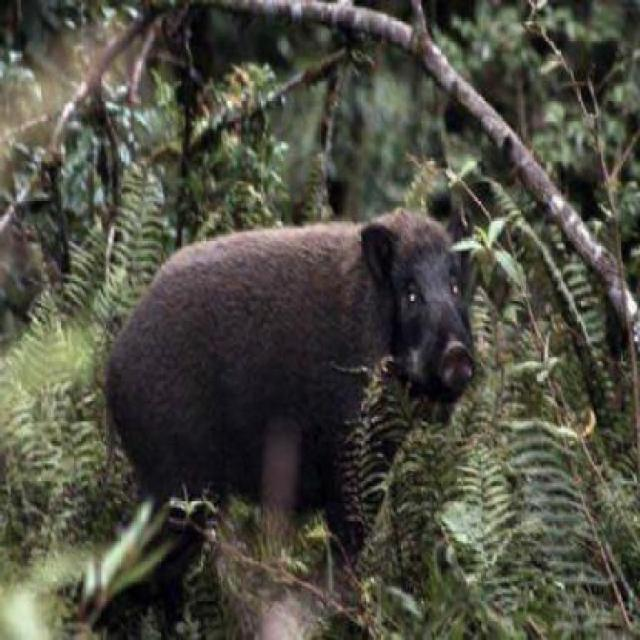Boar: (65, 148, 484, 554)
